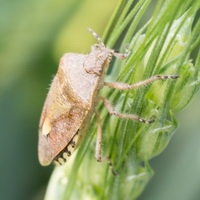insect: (38, 28, 178, 165)
